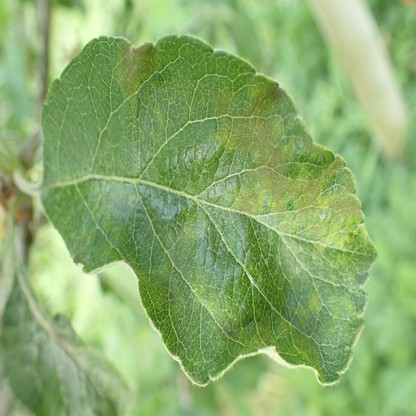scab: (246, 148, 369, 246), (211, 88, 272, 161), (194, 283, 238, 343), (118, 45, 156, 95), (150, 274, 183, 314), (231, 188, 263, 216), (327, 297, 355, 320), (265, 79, 283, 104), (306, 293, 319, 316)
